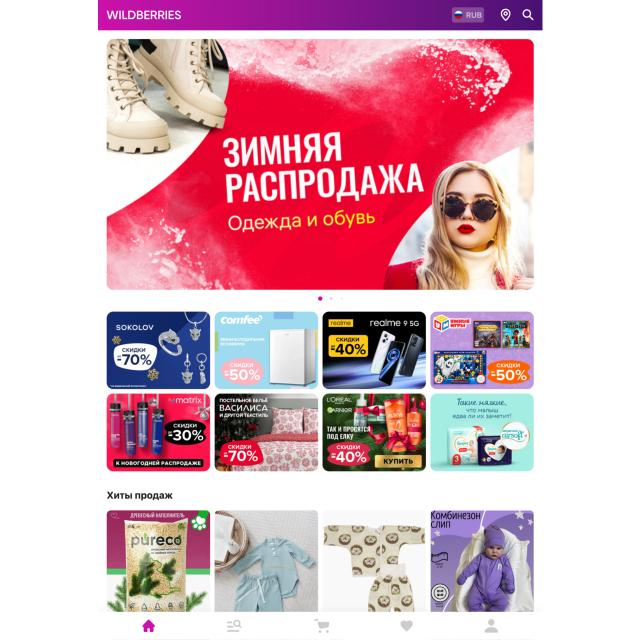logo: (106, 10, 182, 21)
navigation: (105, 612, 534, 640)
